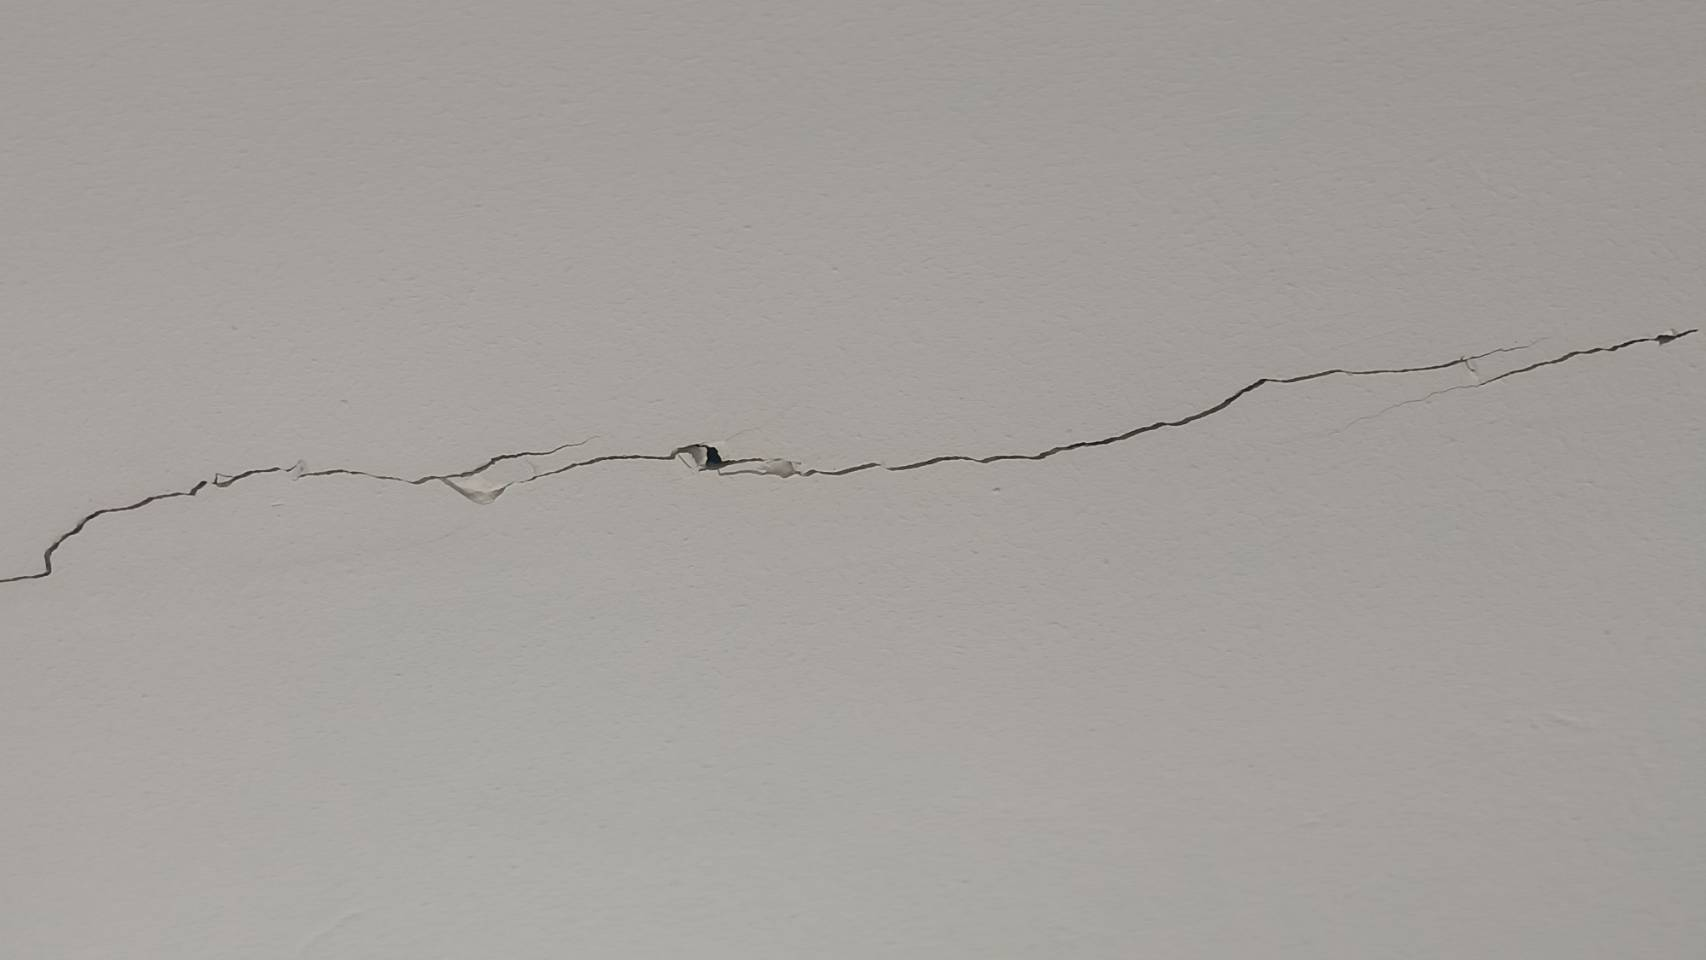Low: (4, 163, 1706, 593)
